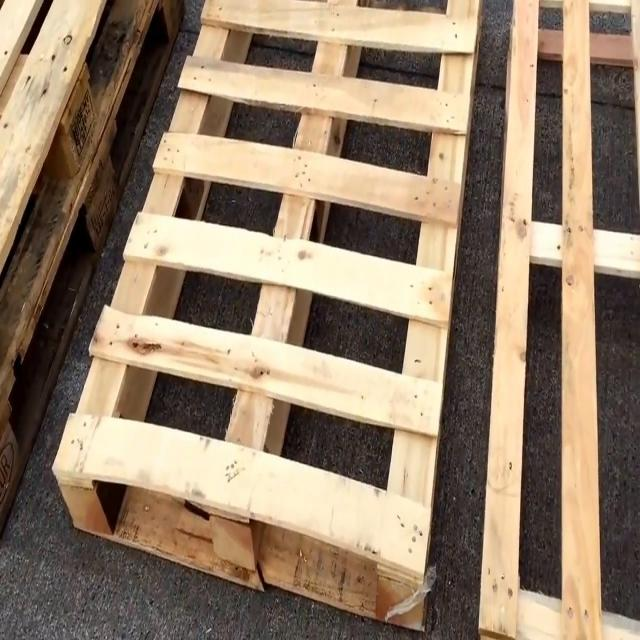Palette: (52, 0, 488, 640), (0, 0, 186, 570), (481, 0, 640, 640)
